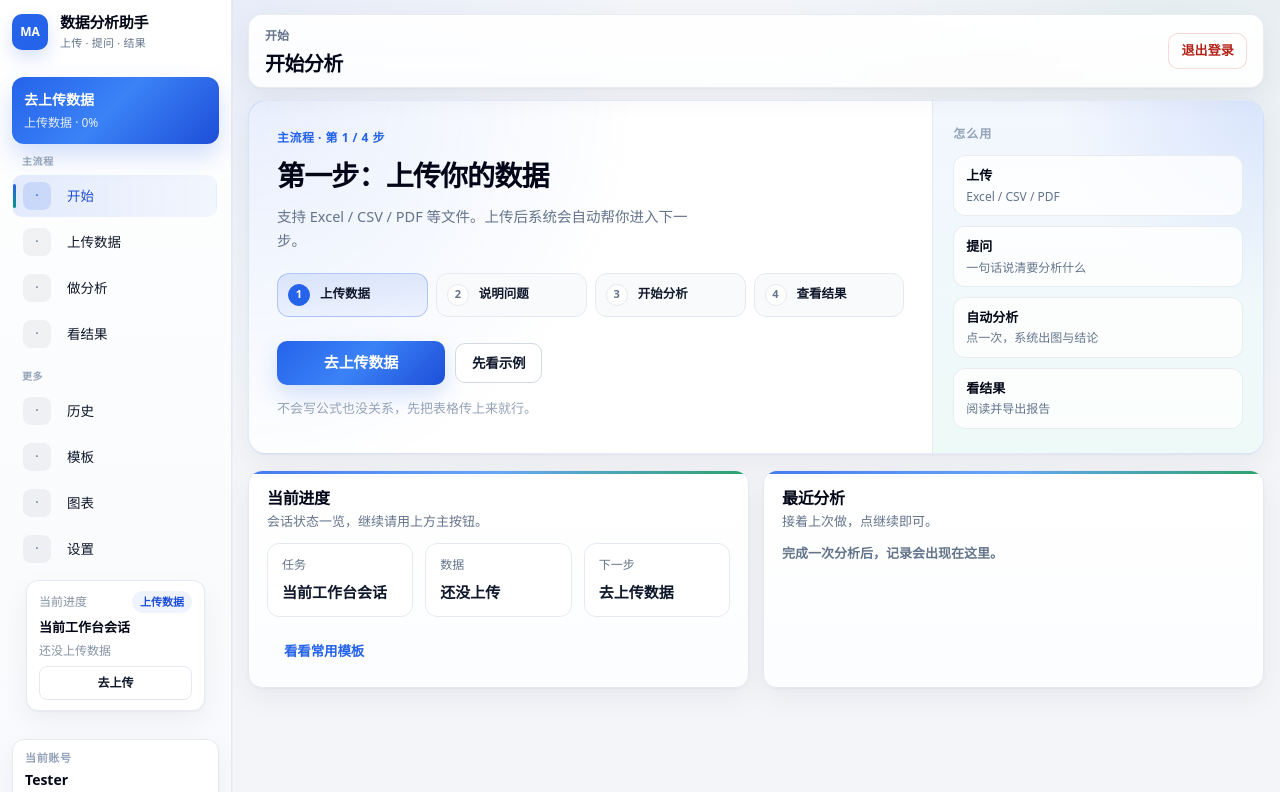
Test: app navigation › navigates from the shell to data insights
Click the link "· 图表" at (37, 503), box [23,489,94,517]
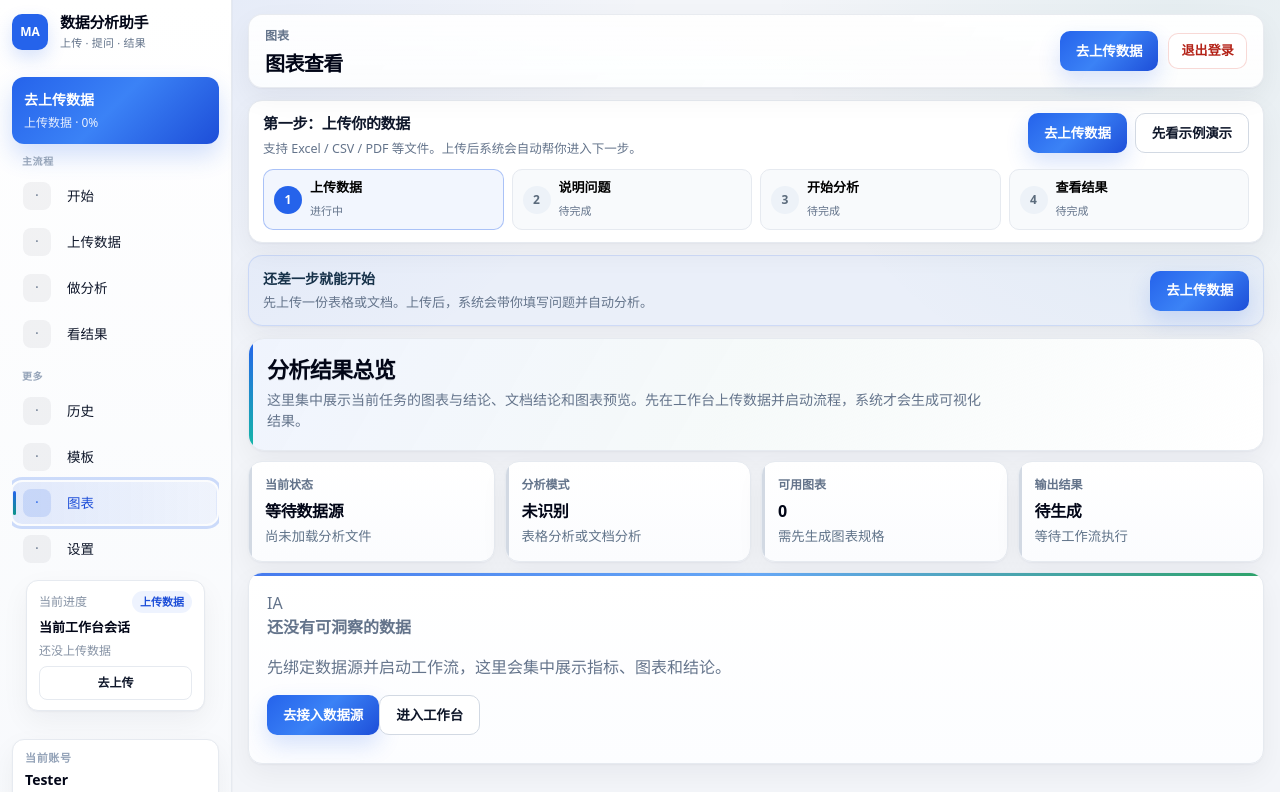
Now the heading "分析结果总览" is shown, box [267,354,395,384]
